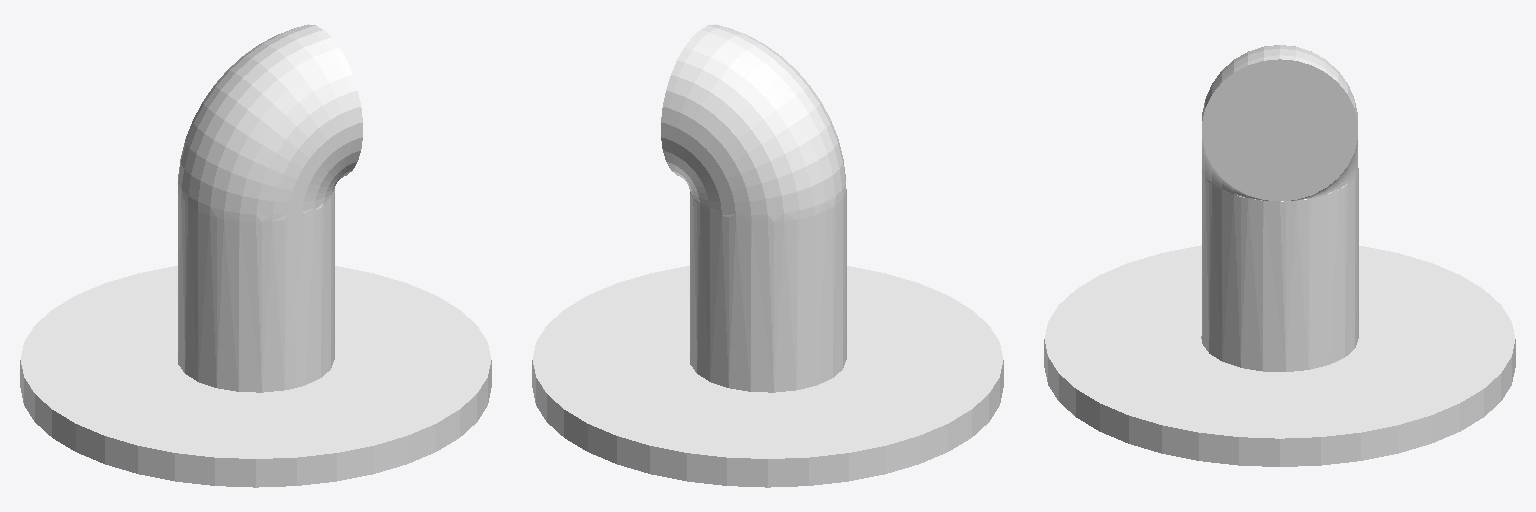
URDF robot description (two_link_arm):
<?xml version="1.0" ?>

<!-- <include filename="$(find mybot)/urdf/mybot.plugins.xacro" /> -->

<!-- This URDF was automatically created by SolidWorks to URDF Exporter! Originally created by [author] ([email redacted]) 
     Commit Version: 1.6.0-4-g7f85cfe  Build Version: 1.6.7995.38578
     For more information, please see http://wiki.ros.org/sw_urdf_exporter -->

<!-- <urdf:property name="camera_size" value="0.02"/>
<urdf:property name="camera_origin_x" value="0.065"/>
<urdf:property name="camera_origin_y" value="0"/>
<urdf:property name="camera_origin_z" value="0.025"/> -->

<robot name="two_link_arm" xmlns:xacro="http://www.ros.org/wiki/xacro">

<!-- <gazebo reference="camera">
    <sensor type="camera" name="camera">
      <update_rate>30.0</update_rate>
      <camera name="head">
        <horizontal_fov>1.3962634</horizontal_fov>
        <image>
          <width>800</width>
          <height>800</height>
          <format>R8G8B8</format>
        </image>
        <clip>
          <near>0.02</near>
          <far>300</far>
        </clip>
        <noise>
          <type>gaussian</type>
          Noise is sampled independently per pixel on each frame.
               That pixel's noise value is added to each of its color
               channels, which at that point lie in the range [0,1].
          <mean>0.0</mean>
          <stddev>0.007</stddev>
        </noise>
      </camera>
      <plugin name="camera_controller" filename="libgazebo_ros_camera.so">
        <alwaysOn>true</alwaysOn>
        <updateRate>0.0</updateRate>
        <cameraName>/mybot/camera</cameraName>
        <imageTopicName>image_raw</imageTopicName>
        <cameraInfoTopicName>camera_info</cameraInfoTopicName>
        <frameName>camera</frameName>
        <hackBaseline>0.07</hackBaseline>
        <distortionK1>0.0</distortionK1>
        <distortionK2>0.0</distortionK2>
        <distortionK3>0.0</distortionK3>
        <distortionT1>0.0</distortionT1>
        <distortionT2>0.0</distortionT2>
      </plugin>
    </sensor>
  </gazebo> -->

  <link name="base_link">
    <inertial>
      <origin 
        xyz="0.0010593 0.033709 7.5158E-19"
        rpy="0 0 0" />
      <mass
        value="33.447" />
      <inertia
        ixx="0.064903"
        ixy="-0.0023213"
        ixz="1.8936E-20"
        iyy="0.05032"
        iyz="7.9913E-18"
        izz="0.065011" />
    </inertial>
    <visual>
      <origin
        xyz="0 0 0"
        rpy="0 0 0" />
      <geometry>
        <mesh
          filename="package://two_link_arm/meshes/base_link.STL" />
      </geometry>
      <material
        name="">
        <color
          rgba="1 1 1 1" />
      </material>
    </visual>
    <collision>
      <origin
        xyz="0 0 0"
        rpy="0 0 0" />
      <geometry>
        <mesh
          filename="package://two_link_arm/meshes/base_link.STL" />
      </geometry>
    </collision>
  </link>

  <!-- Camera -->
  <!-- <link name="camera">
    <visual>
      <geometry>
        <box size="0.02 0.02 0.02"/>
      </geometry>
      <material name="blue"/>
    </visual>
    <collision>
      <geometry>
        <box size="0.02 0.02 0.02"/>
      </geometry>
    </collision>
    <xacro:default_inertial mass="0.02"/>
    <mass
        value="0.02" />
  </link> -->

  <!-- <joint name="camera_joint" type="fixed">
    <origin xyz="0.065 0 0.025" rpy="0 0 0"/>
    <origin xyz="0.5 0.5 0.5" rpy="0 0 0"/>
    <origin xyz="0.5 0.5 0.5" rpy="0 1.57 0"/>



    <parent link="base_link"/>
    <child link="camera"/>
  </joint> -->

  <!-- <link
    name="Link_1">
    <inertial>
      <origin
        xyz="-0.02361 1.4058E-08 0.125"
        rpy="0 0 0" />
      <mass
        value="0.82473" />
      <inertia
        ixx="0.0054808"
        ixy="-9.9765E-10"
        ixz="-6.9854E-20"
        iyy="0.005484"
        iyz="6.7821E-19"
        izz="0.00026088" />
    </inertial>
    <visual>
      <origin
        xyz="0 0 0"
        rpy="0 0 0" />
      <geometry>
        <mesh
          filename="package://two_link_arm/meshes/Link_1.STL" />
      </geometry>
      <material
        name="">
        <color
          rgba="1 1 1 1" />
      </material>
    </visual>
    <collision>
      <origin
        xyz="0 0 0"
        rpy="0 0 0" />
      <geometry>
        <mesh
          filename="package://two_link_arm/meshes/Link_1.STL" />
      </geometry>
    </collision>
  </link>
  <joint
    name="Joint_1"
    type="revolute">
    <origin
      xyz="0.02495 0 0.095"
      rpy="1.5708 0 3.1416" />
    <parent
      link="base_link" />
    <child
      link="Link_1" />
    <axis
      xyz="1 0 0" />
    <limit
      lower="-3.14"
      upper="0.0"
      effort="100"
      velocity="0.3" />
  </joint>
  <link
    name="Link_2">
    <inertial>
      <origin
        xyz="0.024112 -1.3878E-17 0.10532"
        rpy="0 0 0" />
      <mass
        value="0.70847" />
      <inertia
        ixx="0.0034993"
        ixy="5.3486E-21"
        ixz="-6.5034E-05"
        iyy="0.0035013"
        iyz="4.5621E-19"
        izz="0.00022333" />
    </inertial>
    <visual>
      <origin
        xyz="0 0 0"
        rpy="0 0 0" />
      <geometry>
        <mesh
          filename="package://two_link_arm/meshes/Link_2.STL" />
      </geometry>
      <material
        name="">
        <color
          rgba="1 1 1 1" />
      </material>
    </visual>
    <collision>
      <origin
        xyz="0 0 0"
        rpy="0 0 0" />
      <geometry>
        <mesh
          filename="package://two_link_arm/meshes/Link_2.STL" />
      </geometry>
    </collision>
  </link>
  <joint
    name="Joint_2"
    type="revolute">
    <origin
      xyz="0 0 0.25"
      rpy="0 0 0" />
    <parent
      link="Link_1" />
    <child
      link="Link_2" />
    <axis
      xyz="1 0 0" />
    <limit
      lower="0"
      upper="3.14"
      effort="100"
      velocity="0.3" />
  </joint>


  <transmission name="trans_Joint_1">
    <type>transmission_interface/SimpleTransmission</type>
    <joint name="Joint_1">
      <hardwareInterface>hardware_interface/EffortJointInterface</hardwareInterface>
    </joint>
    <actuator name="motor_Joint_1">
      <hardwareInterface>hardware_interface/EffortJointInterface</hardwareInterface>
      <mechanicalReduction>1</mechanicalReduction>
    </actuator>
  </transmission>

  <transmission name="trans_Joint_2">
    <type>transmission_interface/SimpleTransmission</type>
    <joint name="Joint_2">
      <hardwareInterface>hardware_interface/EffortJointInterface</hardwareInterface>
    </joint>
    <actuator name="motor_Joint_2">
      <hardwareInterface>hardware_interface/EffortJointInterface</hardwareInterface>
      <mechanicalReduction>1</mechanicalReduction>
    </actuator>
  </transmission> -->

  <gazebo>
    <plugin name="gazebo_ros_control" filename="libgazebo_ros_control.so">
    </plugin>
  </gazebo>
</robot>

--- What the picture shows (computed from the rendered views, not written in the file) ---
The picture shows the robot from 3 angles, left to right: view 1: azimuth 30°, elevation 25°; view 2: azimuth 150°, elevation 25°; view 3: azimuth 270°, elevation 25°; orthographic projection.
Robot: two_link_arm — 1 links, 0 joints (none); root link base_link; default pose: all joints at 0.
Links seen in each view (by area): view 1: base_link; view 2: base_link; view 3: base_link.
Link boxes in pixels (x1,y1,x2,y2): base_link: (20,24,491,487); base_link: (532,24,1003,487); base_link: (1044,45,1515,466).
Bounding box of the posed robot: 0.15 × 0.15 × 0.12 m (x, y, z).
1 mesh visuals loaded from 1 distinct referenced files (1 binary STL).
